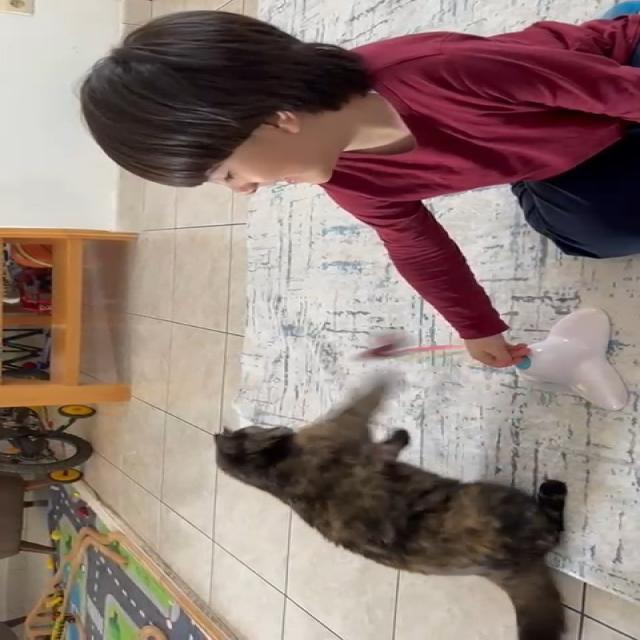authorized: (212, 383, 569, 639)
